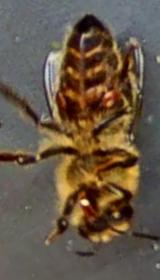varroa_mite: (92, 84, 122, 111), (54, 86, 72, 116)
